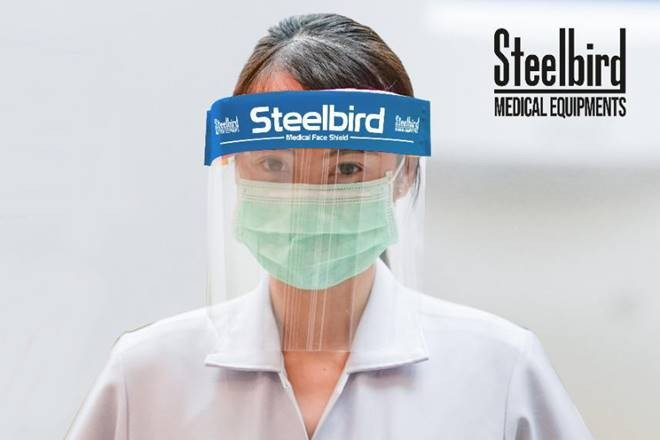face_with_mask: (204, 10, 434, 331)
